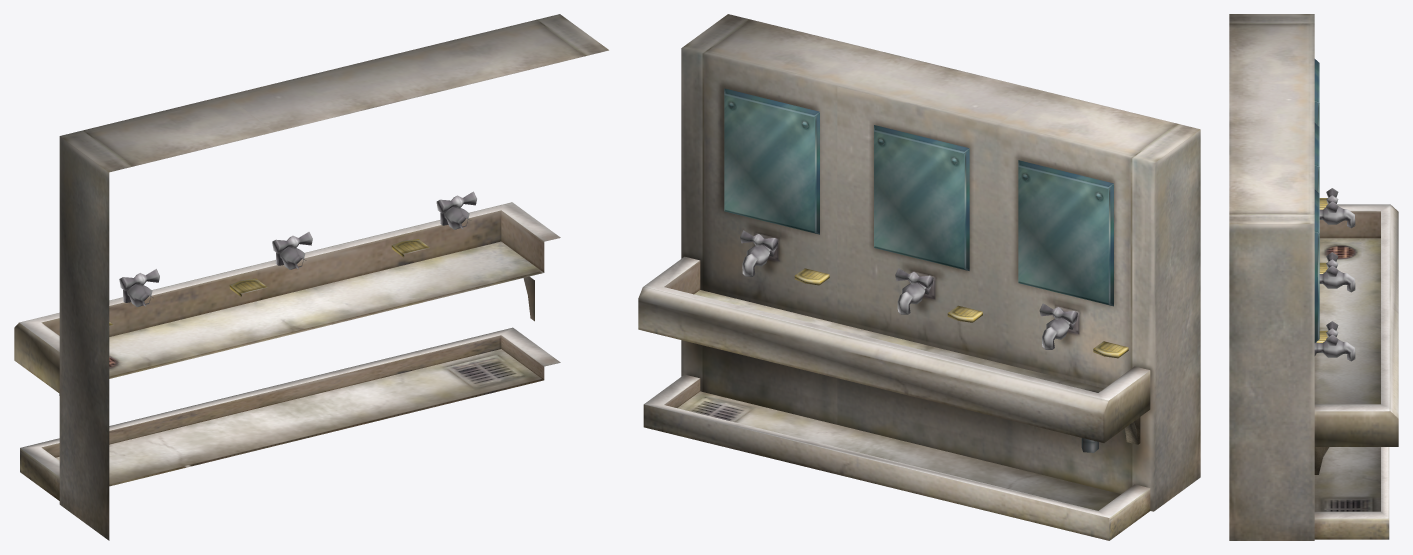
The model's file is a_SWIwat04.glb.
The picture shows the model from 3 angles, left to right: view 1: azimuth 30°, elevation 25°; view 2: azimuth 150°, elevation 25°; view 3: azimuth 270°, elevation 25°; orthographic projection. The views are drawn at different scales.
Parts seen in each view (by area): view 1: a_SWIwat04; view 2: a_SWIwat04; view 3: a_SWIwat04.
Part boxes in pixels (x1,y1,x2,y2): a_SWIwat04: (14, 14, 608, 540); a_SWIwat04: (638, 14, 1200, 540); a_SWIwat04: (1229, 14, 1398, 540).
Bounding box in the file's own units: 2.97 × 2.09 × 1.01.
3 materials, 3 textured.
